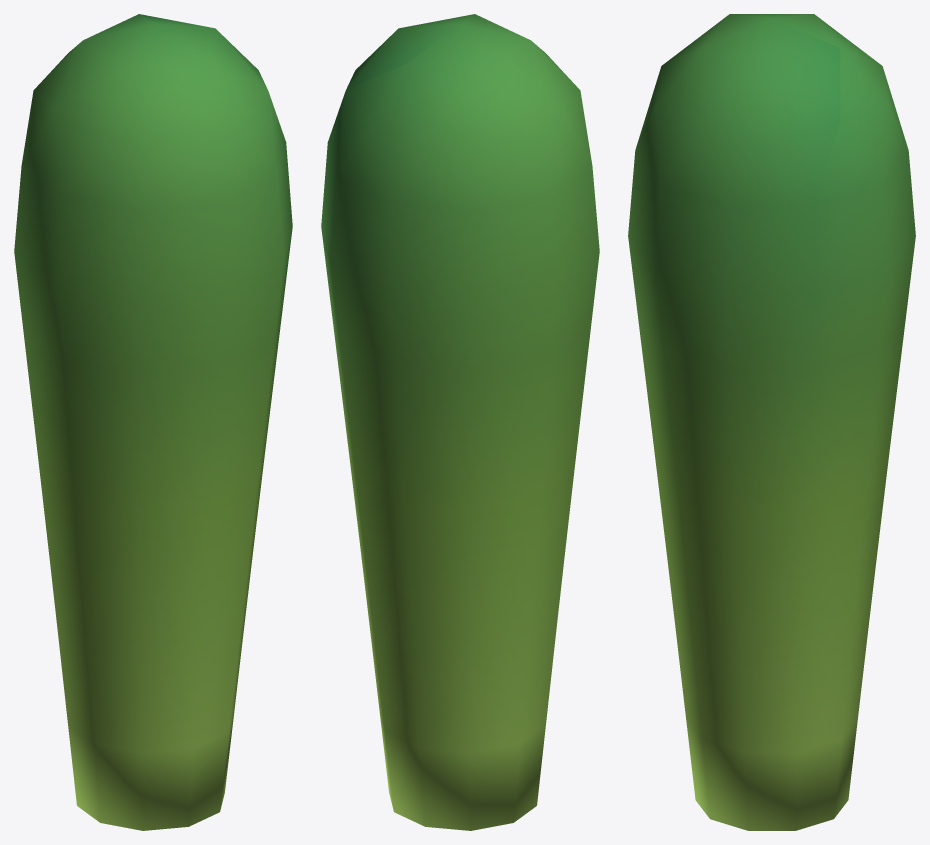
The model's file is grass.gltf.
The picture shows the model from 3 angles, left to right: view 1: azimuth 30°, elevation 25°; view 2: azimuth 150°, elevation 25°; view 3: azimuth 270°, elevation 25°; orthographic projection.
Parts seen in each view (by area): view 1: Grass; view 2: Grass; view 3: Grass.
Boxes of the visible parts, left/top/right/bottom form: Grass: left=14, top=14, right=292, bottom=830; Grass: left=321, top=14, right=599, bottom=830; Grass: left=628, top=14, right=915, bottom=830.
Bounding box in the file's own units: 0.1336 × 0.4215 × 0.1405.
1 material, 1 textured.
